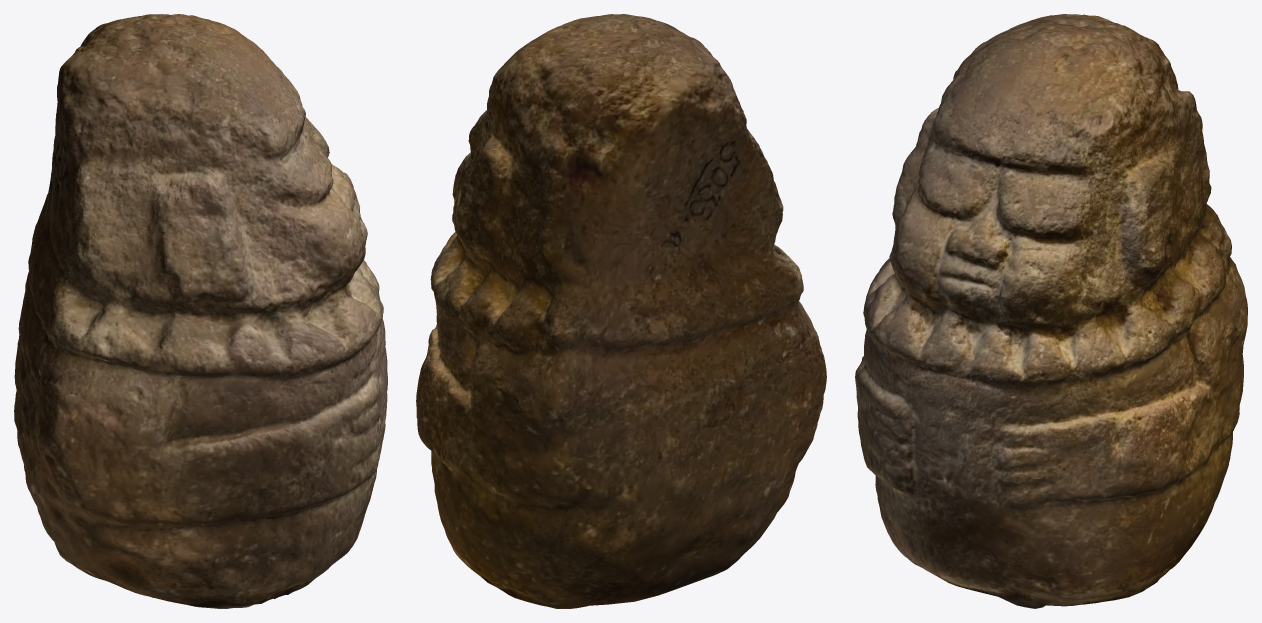
The model's file is statue-compressed.glb.
3 renders of one model, left to right at view 1: azimuth 30°, elevation 25°; view 2: azimuth 150°, elevation 25°; view 3: azimuth 270°, elevation 25°, orthographic. The views are drawn at different scales.
Visible parts, largest first — view 1: mesh; view 2: mesh; view 3: mesh.
Part boxes in pixels (left/top/right/bottom): mesh: left=14, top=14, right=387, bottom=608; mesh: left=416, top=14, right=826, bottom=608; mesh: left=855, top=14, right=1247, bottom=608.
Size of the model in its own units: 0.5852 by 0.8707 by 0.5967.
Materials: 1 (1 with a texture image).
